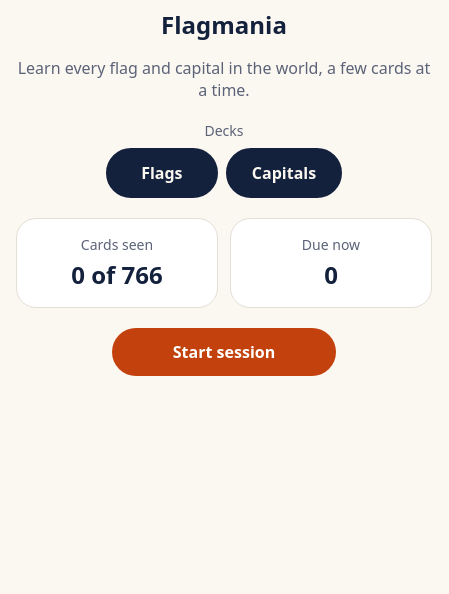
Test: keyboard › answers with keys and moves on with Enter
Click the button "Start session": (224,352) [112,328,336,376]
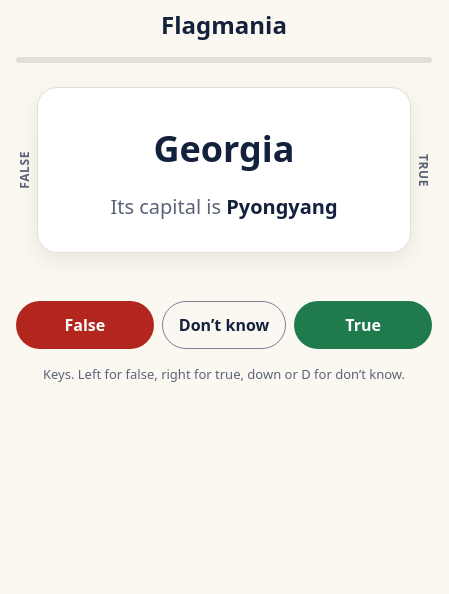
expect the button "True" is shown: met, box [294,301,432,349]
Press d
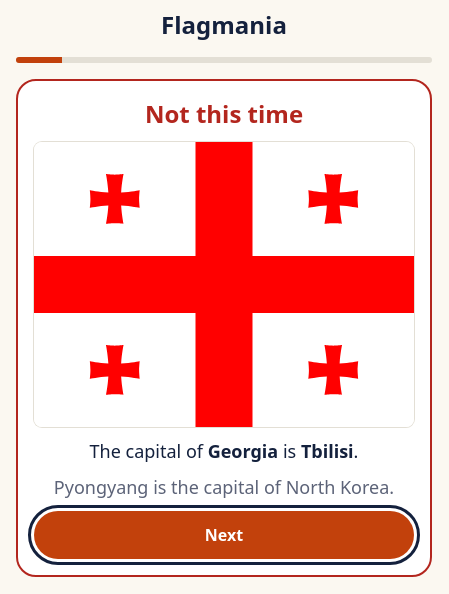
expect the heading "Not this time" is shown: met, box [145,97,303,130]
Press Enter
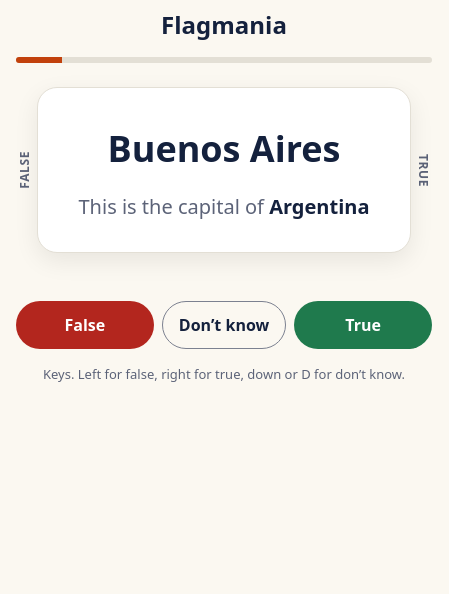
expect the button "True" is shown: met, box [294,301,432,349]
